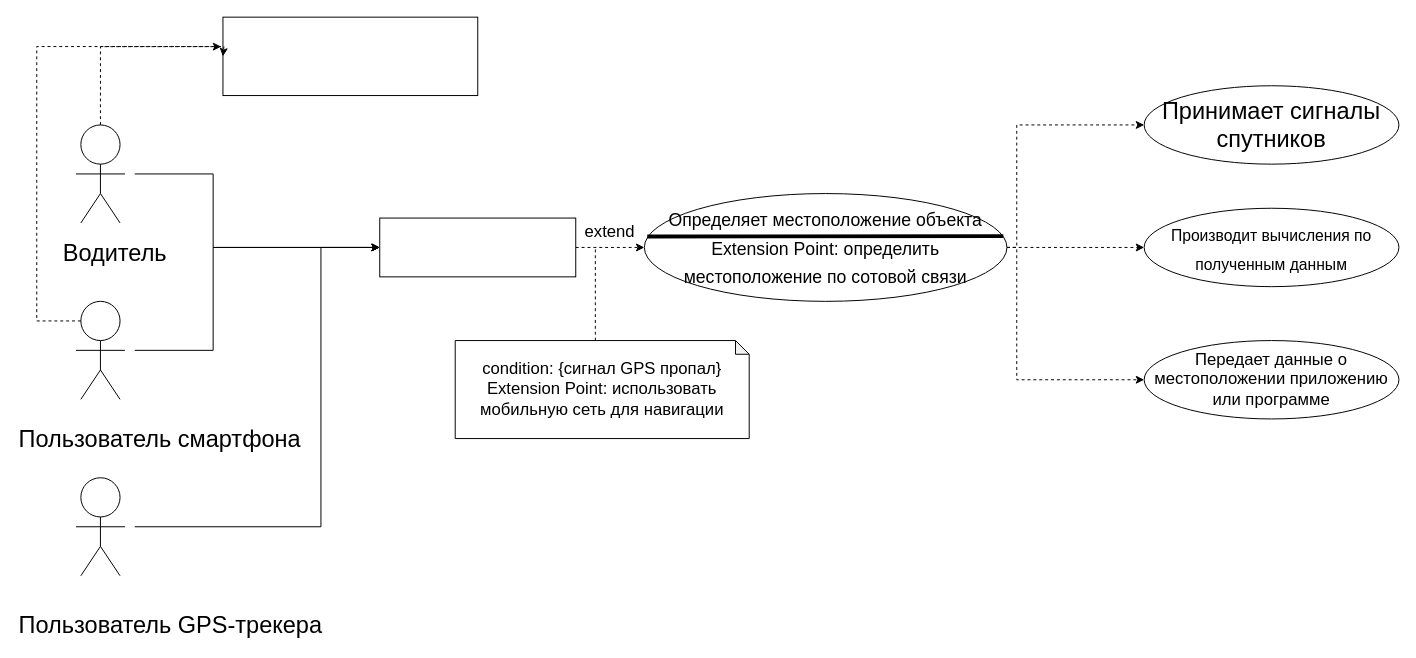
This 1416x658 diagram has some shape labels left out. The centre of each missing label's shape, as x and y in pixels:
"actor" GPS-приемник: the point at 477,247
Использует смартфон для навигации и определения маршрута следования: the point at 350,56
